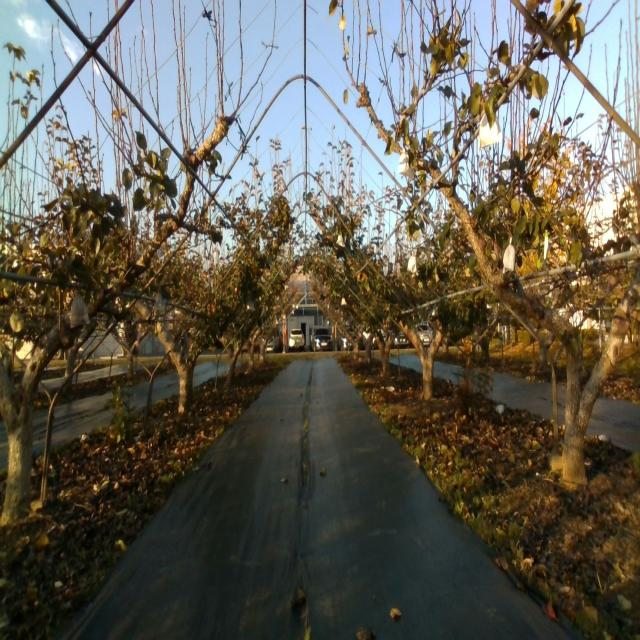pearbags: (479, 112, 502, 148), (70, 294, 89, 328), (502, 237, 516, 271), (399, 148, 410, 175), (154, 295, 165, 316), (408, 250, 418, 273)
